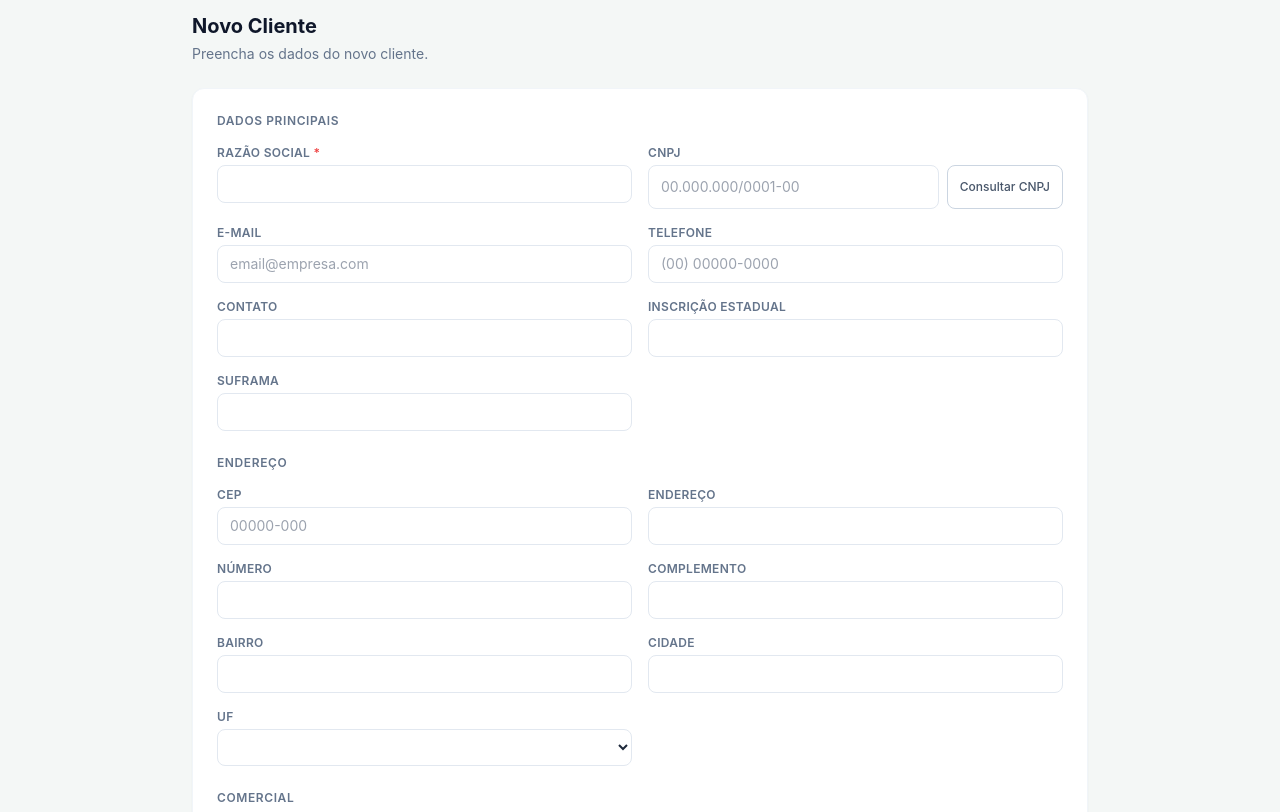
Test: ClienteForm — disponibilidade do CNPJ › consulta fonte externa quando CNPJ está disponível
The width and height of the screenshot is (1280, 812).
Type "12345678000190" into the field labelled "CNPJ". click: (793, 187)
box: [648,165,939,209]
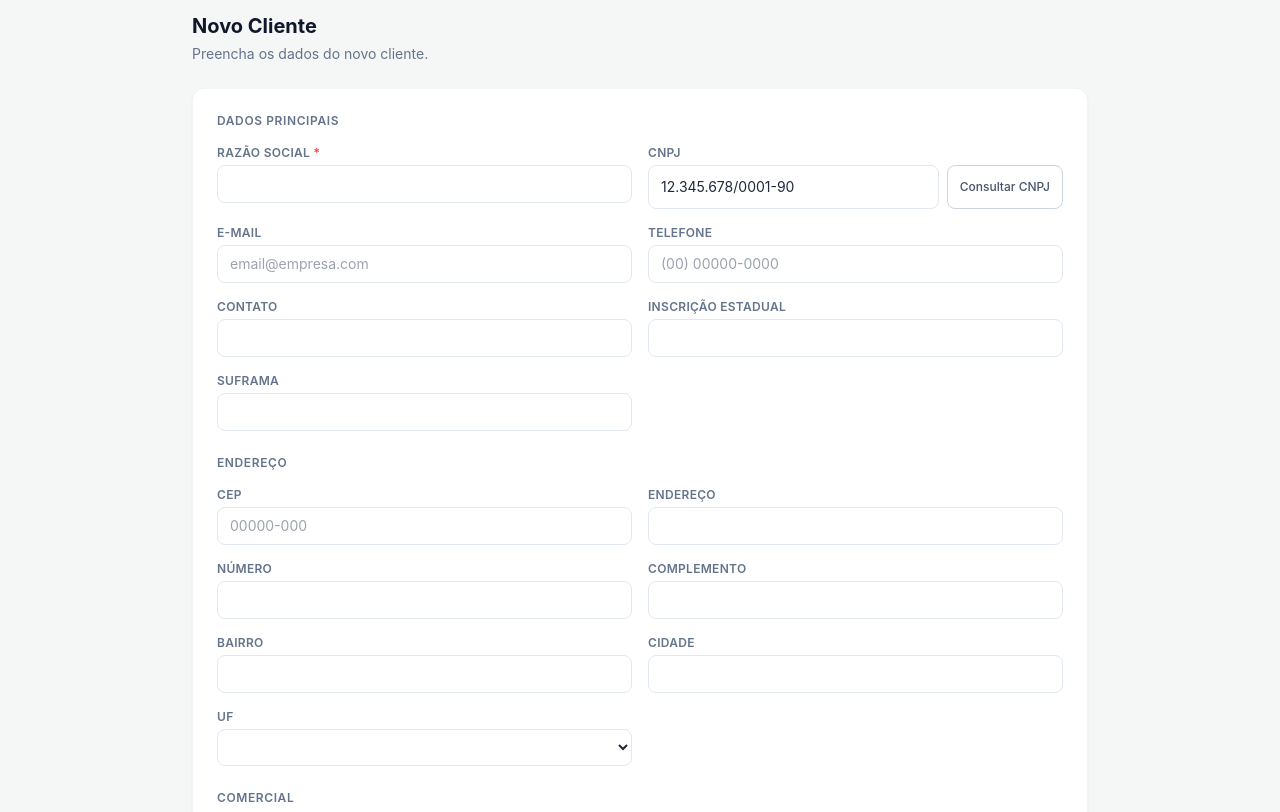
Click the button "Consultar CNPJ". click: (1005, 187)
box: [947,165,1063,209]
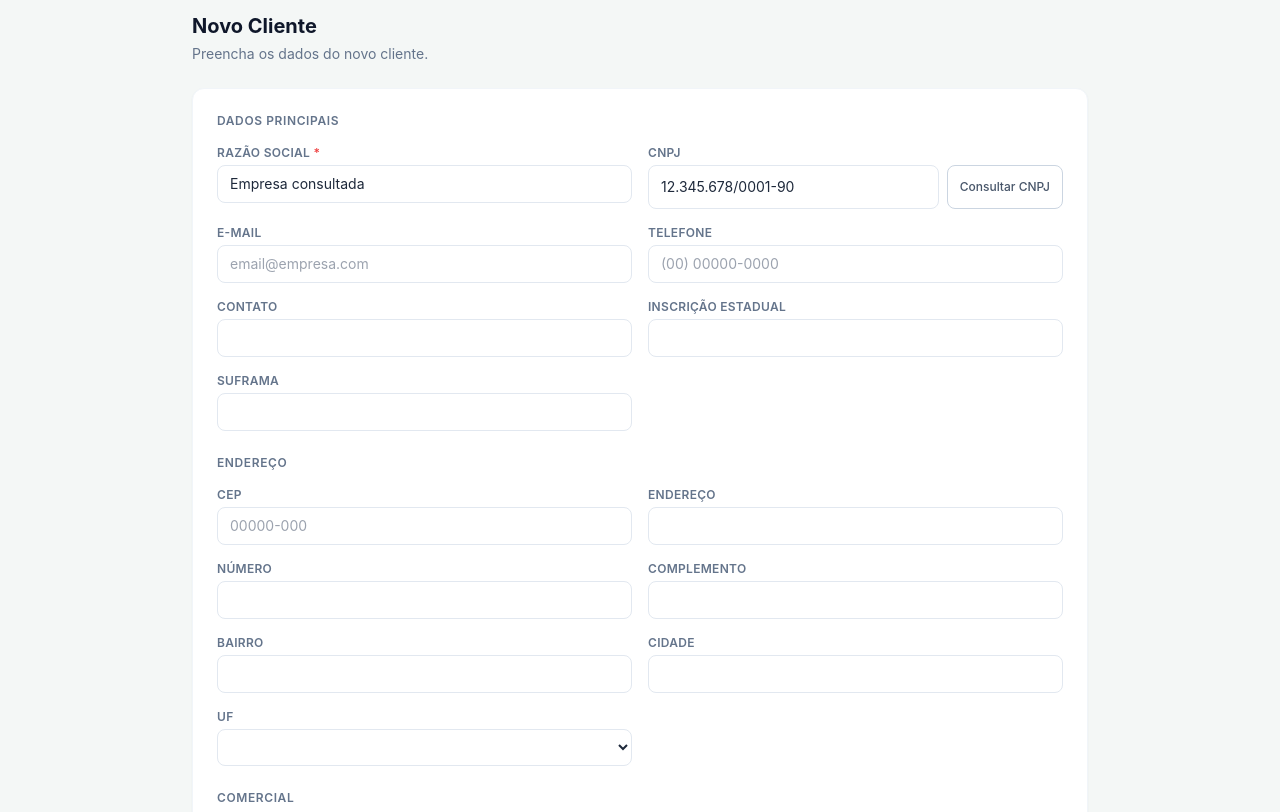
Expected: the field labelled "Razão Social *" holds "Empresa consultada", [217,165,632,203]
